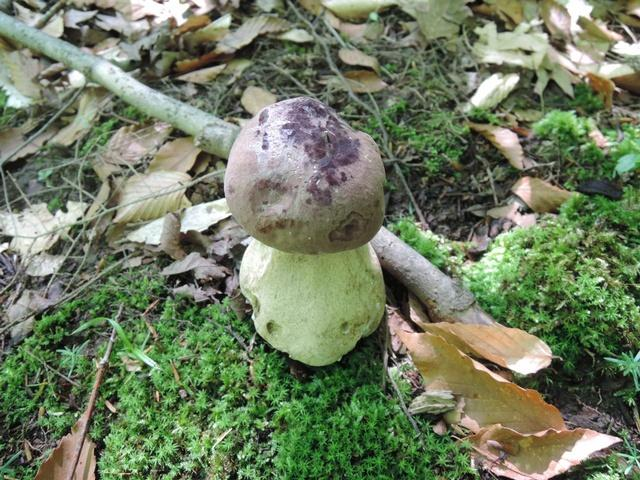Non-edible Mushroom: (222, 94, 389, 367)
